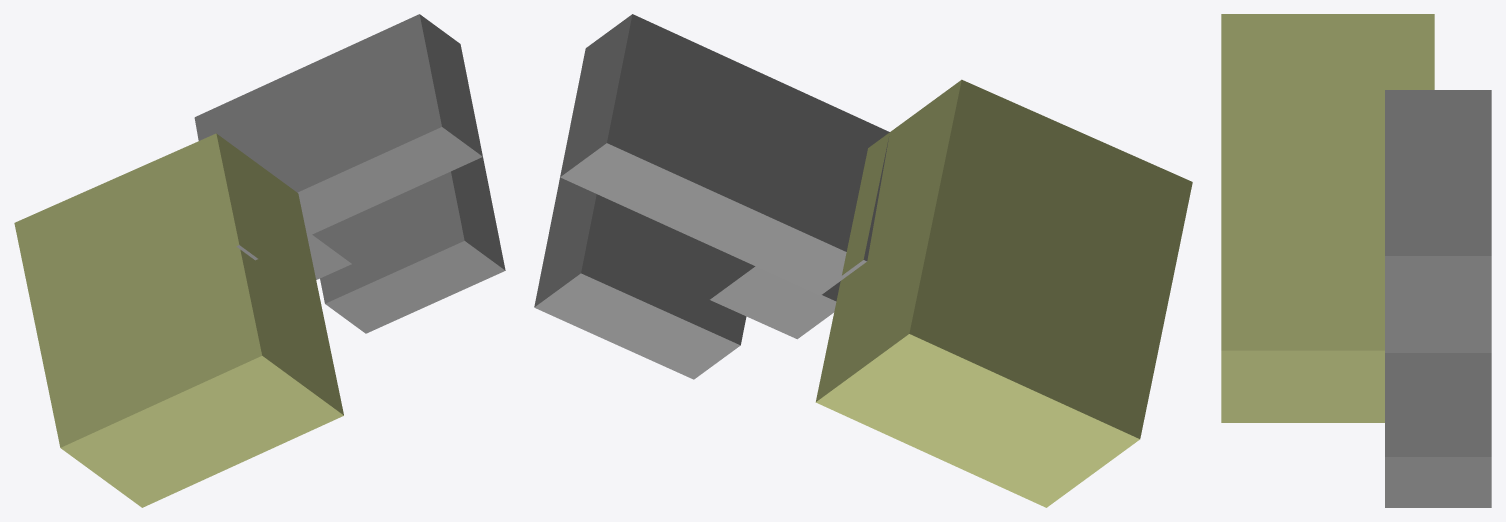
The picture shows the model from 3 angles, left to right: view 1: azimuth 30°, elevation 25°; view 2: azimuth 150°, elevation 25°; view 3: azimuth 270°, elevation 25°; orthographic projection. The views are drawn at different scales.
Visible parts, largest first — view 1: 0_1_0_1_3_3_3_0_2_2; view 2: 0_1_0_1_3_3_3_0_2_2; view 3: 0_1_0_1_3_3_3_0_2_2.
Part boxes in pixels (x1,y1,x2,y2): 0_1_0_1_3_3_3_0_2_2: (14, 14, 505, 507); 0_1_0_1_3_3_3_0_2_2: (534, 14, 1192, 507); 0_1_0_1_3_3_3_0_2_2: (1221, 14, 1491, 507).
Bounding box in the file's own units: 19.96 × 13.13 × 7.6.
